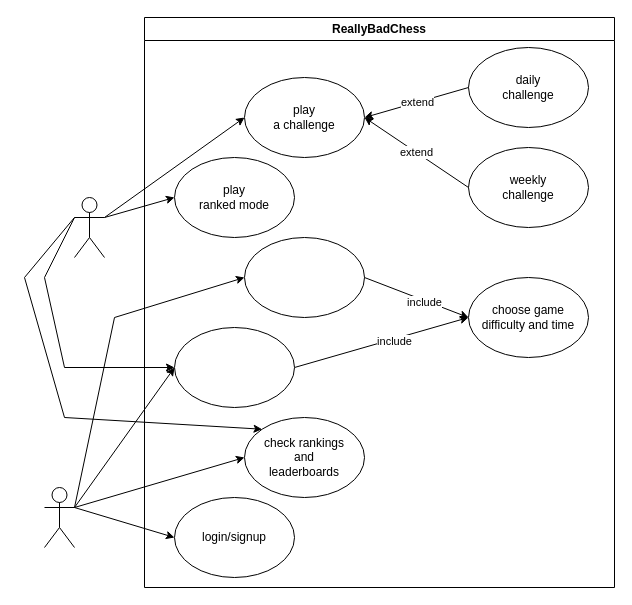
This 632x605 diagram has some shape labels left out. The shapes that lost their labels are listed below. From the top down, each one's centre as x and y in pixels, then its label:
At point (89, 227): "logged user".
At point (304, 277): "play freeplay mode".
At point (234, 367): "play in multiplayer (1v1)".
At point (59, 517): "guest".
